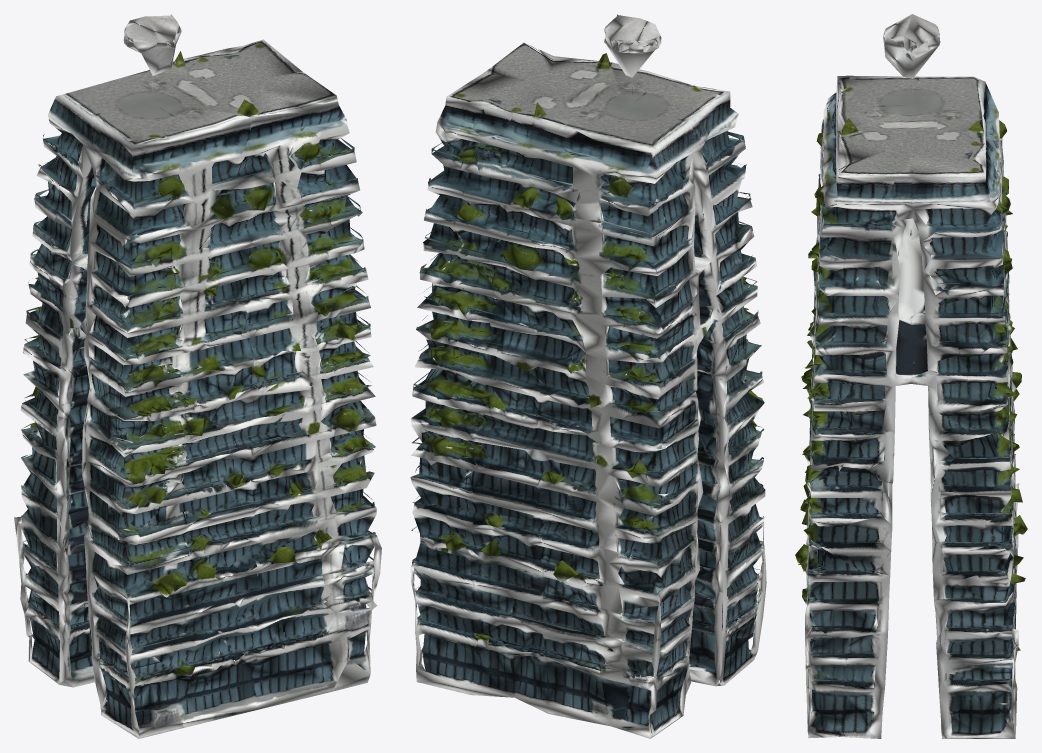
The model's file is tower_m.glb.
3 renders of one model, left to right at view 1: azimuth 30°, elevation 25°; view 2: azimuth 150°, elevation 25°; view 3: azimuth 270°, elevation 25°, orthographic. The views are drawn at different scales.
Bounding box in the file's own units: 0.6937 × 1.73 × 0.5645.
Materials: 1 (1 with a texture image).
